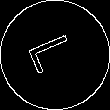L_NE: (26, 31, 84, 79)
